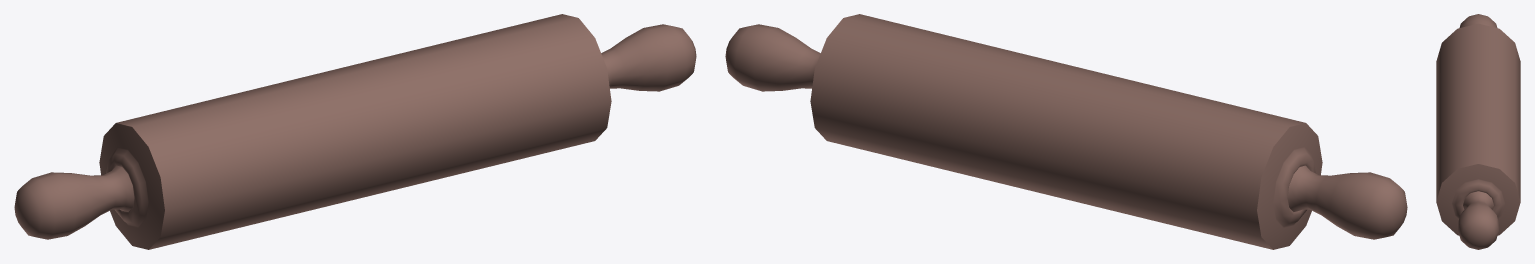
File: Rolling_pin_glb.glb
The picture shows the model from 3 angles, left to right: view 1: azimuth 30°, elevation 25°; view 2: azimuth 150°, elevation 25°; view 3: azimuth 270°, elevation 25°; orthographic projection. The views are drawn at different scales.
Visible parts, largest first — view 1: Rolling_pin; view 2: Rolling_pin; view 3: Rolling_pin.
Boxes of the visible parts, x1,y1,x2,y2 form: Rolling_pin: [14, 14, 696, 249]; Rolling_pin: [725, 14, 1407, 249]; Rolling_pin: [1436, 14, 1520, 249].
Size of the model in its own units: 1.65 by 0.28 by 0.28.
